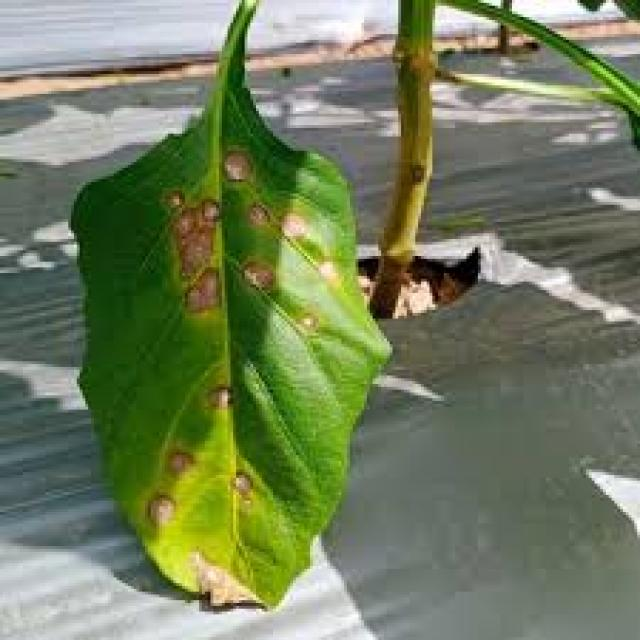bercak_daun: (57, 82, 406, 616)
